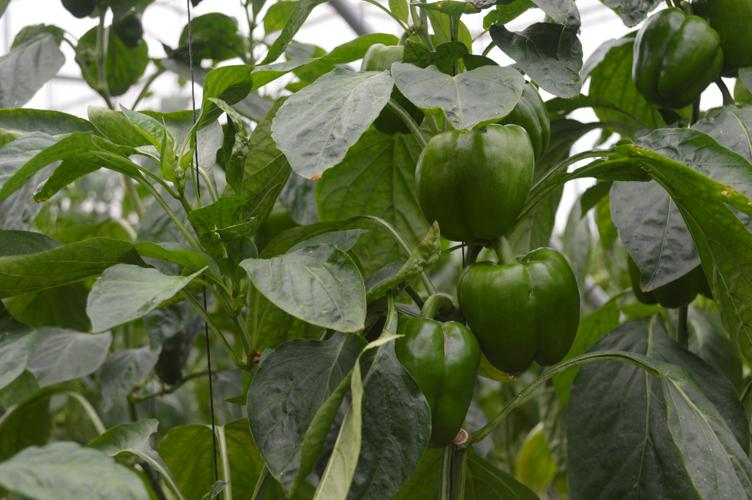BellPepper: (455, 251, 591, 376), (367, 298, 480, 448), (413, 114, 537, 247), (627, 4, 730, 113), (359, 32, 430, 138)
